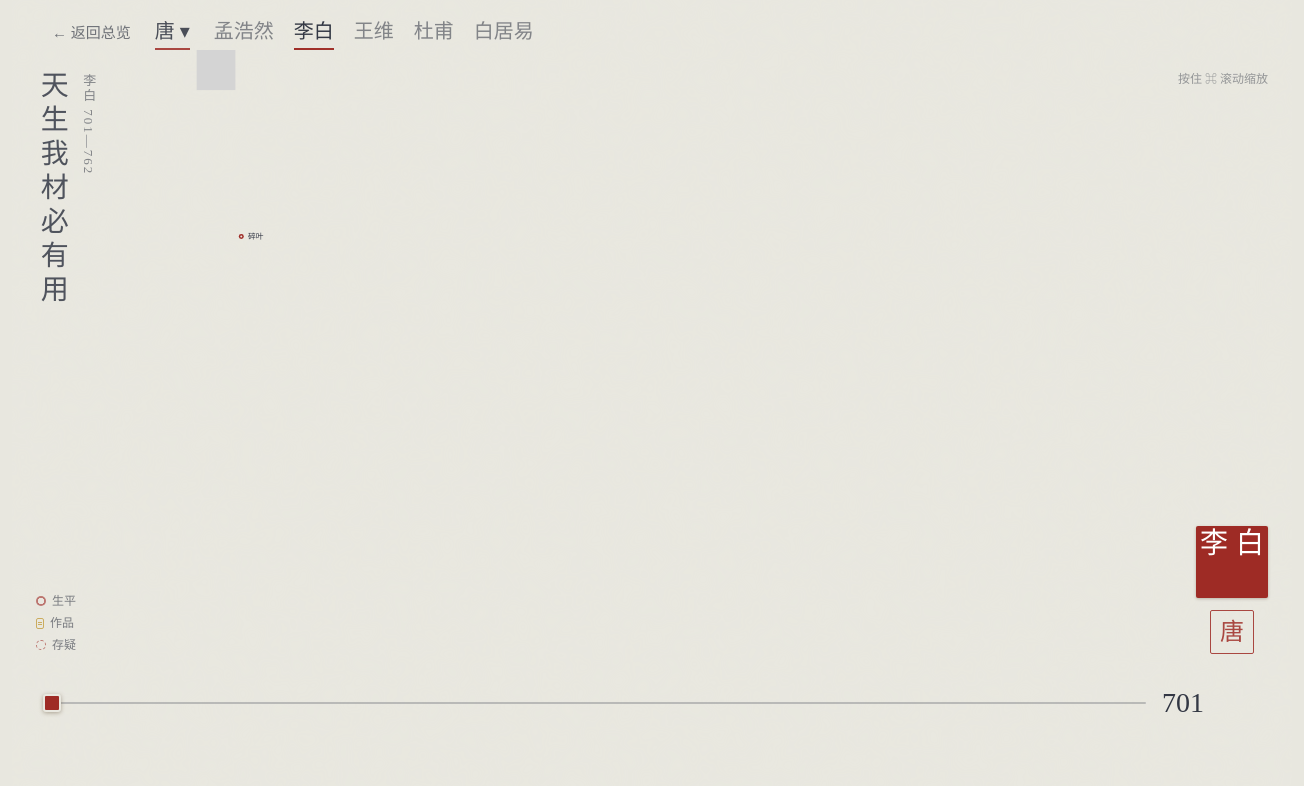
Test case: PoetPage MiniMap 悬浮开关 › 朝代下拉：toggle 展开 dynasties.json 朝代菜单，菜单项指向该朝第一位文人
Click the button "唐 ▾" at {"x": 172, "y": 33}, box [155,16,190,50]
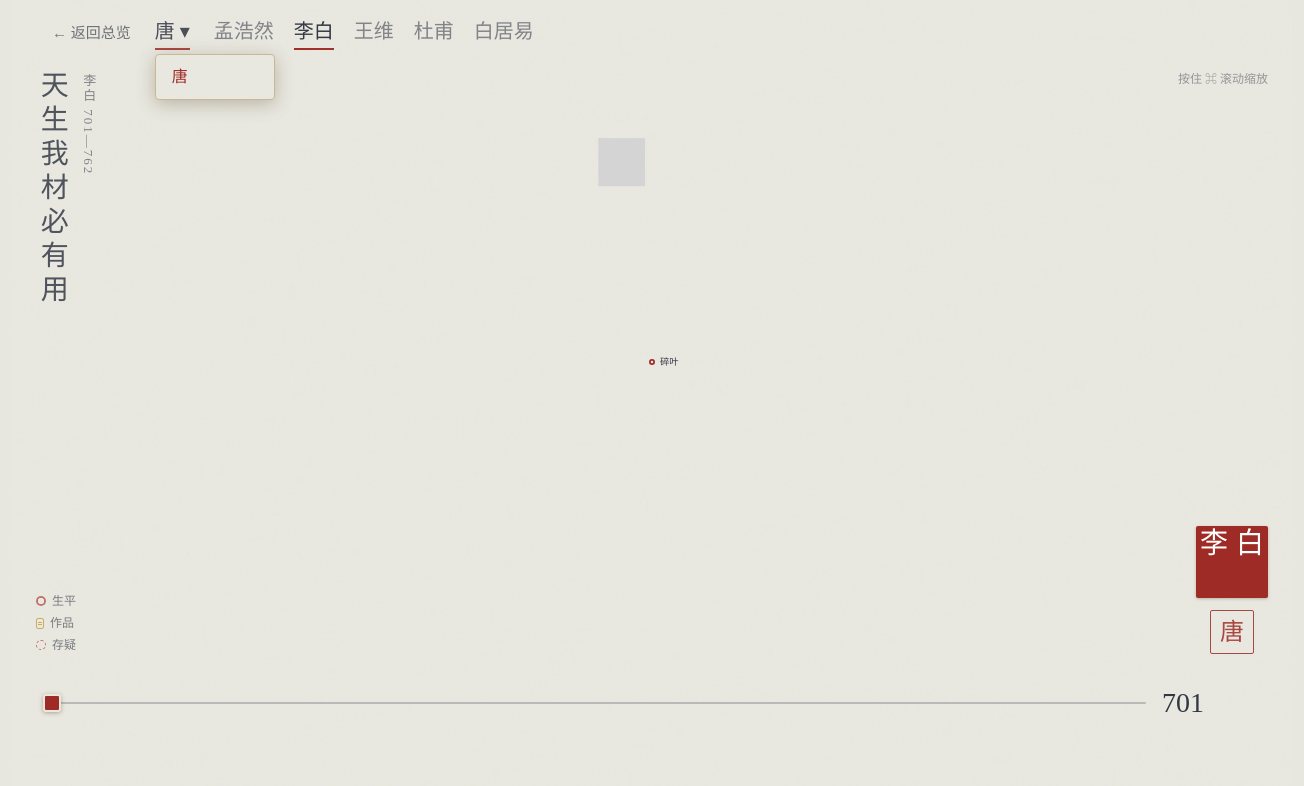
Now the list is shown, box [155,54,275,100]
Now the list reads "唐", box [156,59,274,95]
